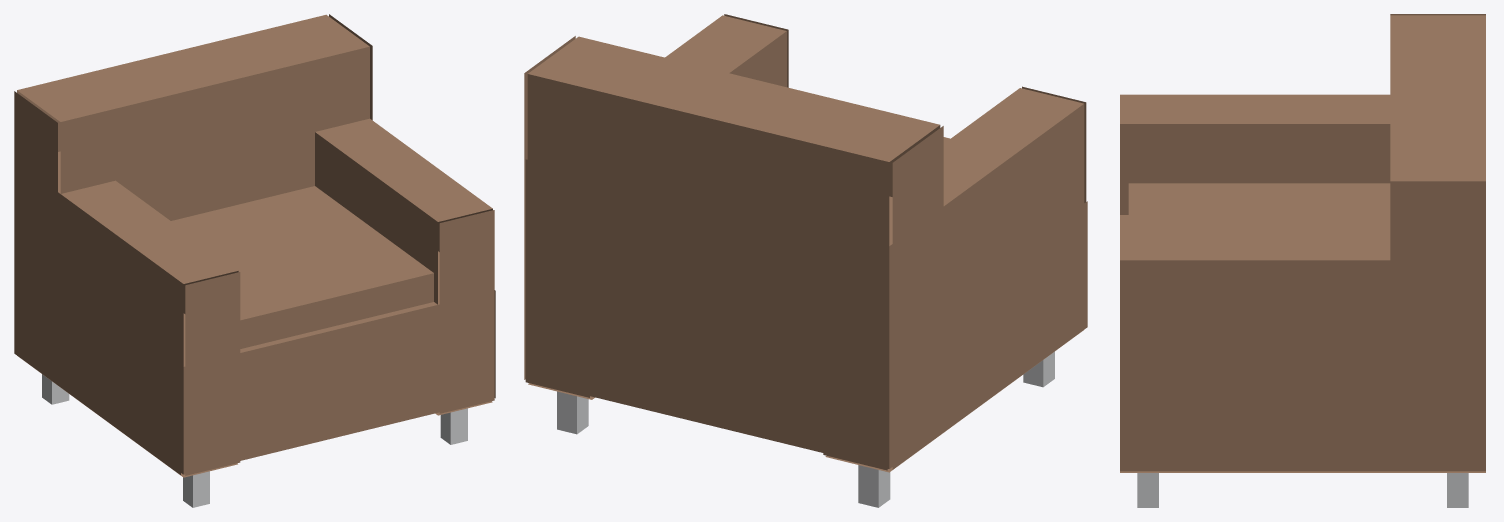
Rendered from Sofa_1.fbx.
The picture shows the model from 3 angles, left to right: view 1: azimuth 30°, elevation 25°; view 2: azimuth 150°, elevation 25°; view 3: azimuth 270°, elevation 25°; orthographic projection. The views are drawn at different scales.
Visible parts, largest first — view 1: Sofa_1; view 2: Sofa_1; view 3: Sofa_1.
Part boxes in pixels (<box>): Sofa_1: <box>14,14,495,507</box>; Sofa_1: <box>524,14,1087,507</box>; Sofa_1: <box>1120,14,1485,507</box>.
Bounding box in the file's own units: 0.916 × 0.85 × 0.856.
